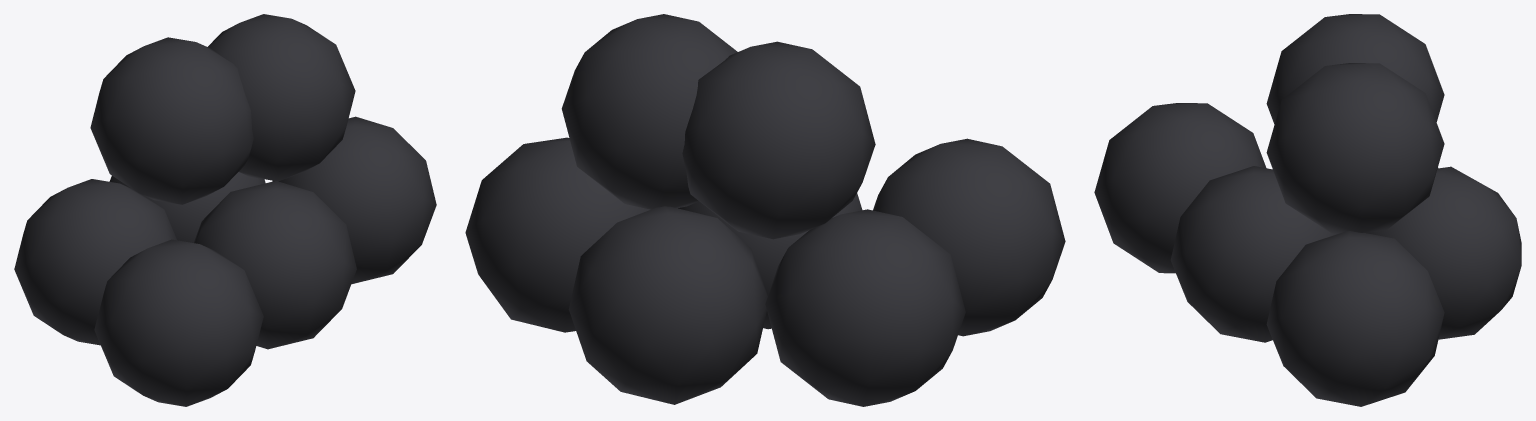
The model's file is Cannonball_02.glb.
3 renders of one model, left to right at view 1: azimuth 30°, elevation 25°; view 2: azimuth 150°, elevation 25°; view 3: azimuth 270°, elevation 25°, orthographic. The views are drawn at different scales.
Visible parts, largest first — view 1: CannonBall_02; view 2: CannonBall_02; view 3: CannonBall_02.
Boxes of the visible parts, x1,y1,x2,y2 form: CannonBall_02: (14,14,436,406); CannonBall_02: (465,14,1065,406); CannonBall_02: (1094,14,1521,406).
Size of what is drawn, in the model's own units: 0.9591 by 0.6287 by 0.8472.
1 material, 1 textured.
